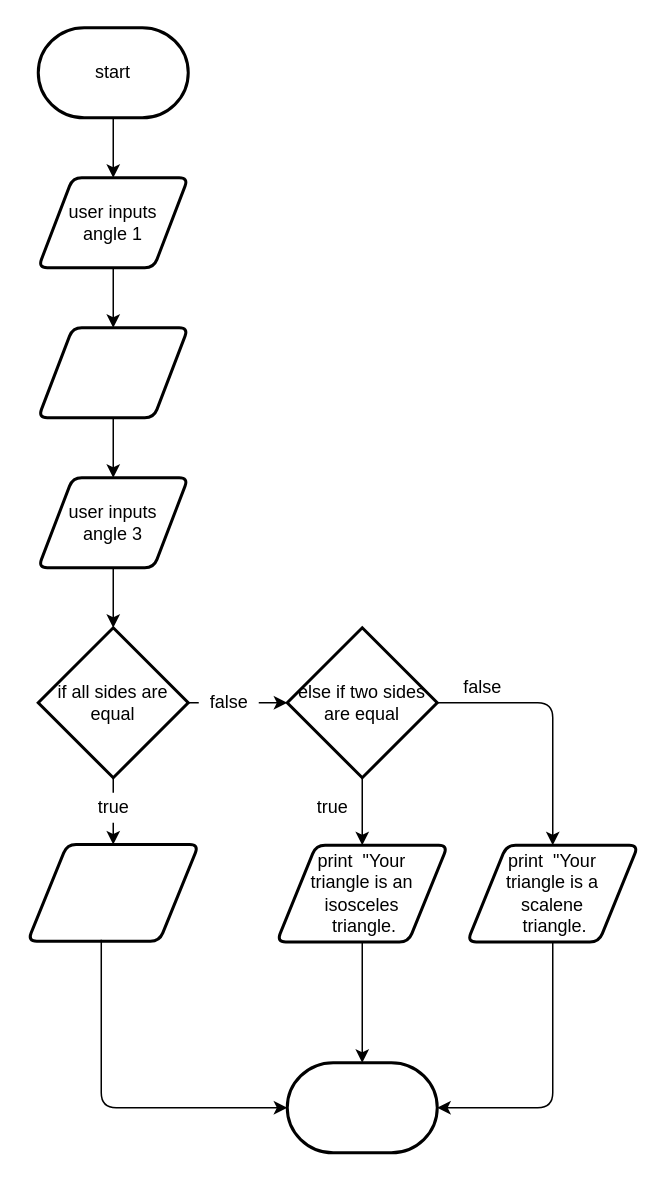
Image size: 665x1179. Some labels were removed from this diagram. Each missing label, with the centre of its shape:
print "Your triangle is an equilateral triangle.: pixel 113 892
stop: pixel 361 1107
user inputs angle 2: pixel 112 372
